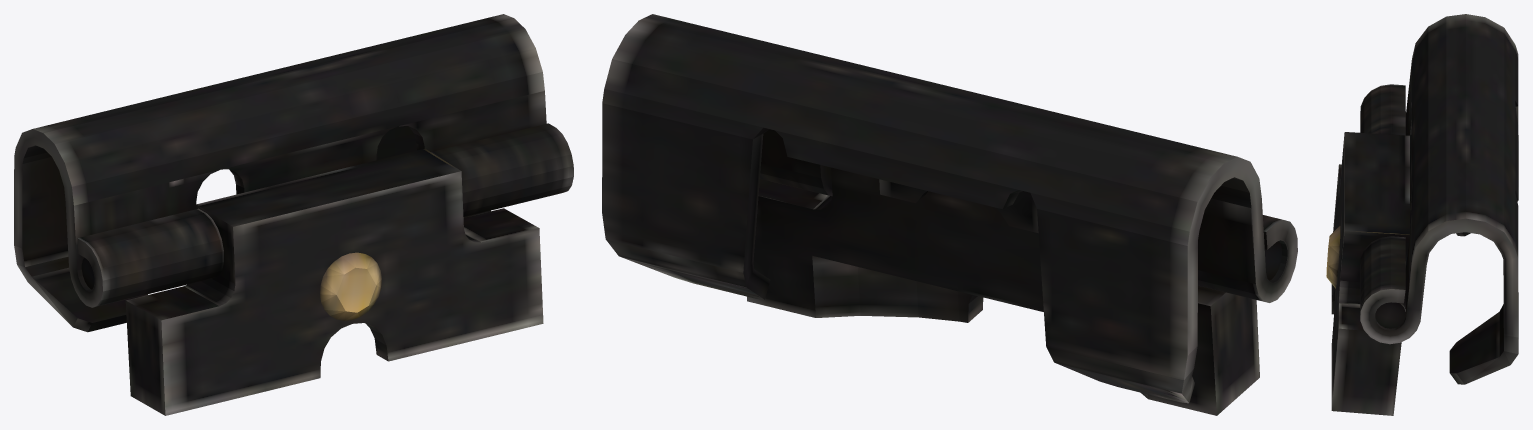
3 renders of one model, left to right at view 1: azimuth 30°, elevation 25°; view 2: azimuth 150°, elevation 25°; view 3: azimuth 270°, elevation 25°, orthographic. The views are drawn at different scales.
Visible parts, largest first — view 1: TW_5a0ed824fcdbcb0176308b0d_PZ_Import; view 2: TW_5a0ed824fcdbcb0176308b0d_PZ_Import; view 3: TW_5a0ed824fcdbcb0176308b0d_PZ_Import.
Part boxes in pixels (left/top/right/bottom): TW_5a0ed824fcdbcb0176308b0d_PZ_Import: left=14, top=14, right=573, bottom=415; TW_5a0ed824fcdbcb0176308b0d_PZ_Import: left=602, top=14, right=1297, bottom=415; TW_5a0ed824fcdbcb0176308b0d_PZ_Import: left=1326, top=14, right=1518, bottom=415.
Size of the model in its own units: 0.0141 by 0.00557 by 0.00697.
1 material, 1 textured.
